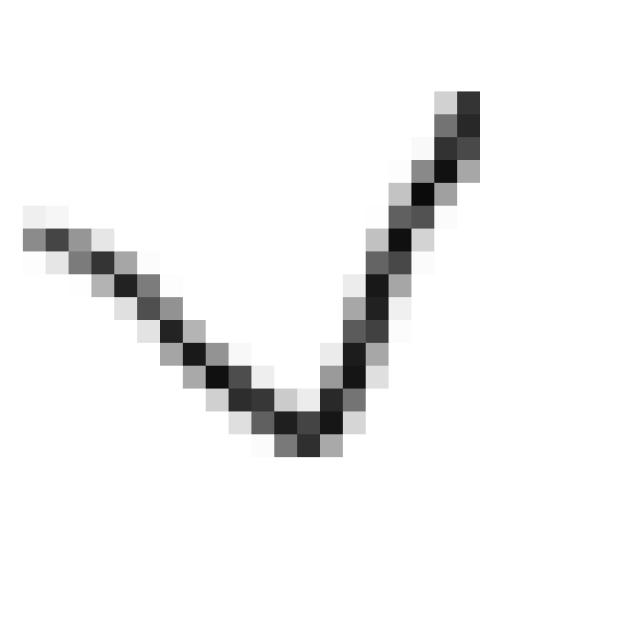7 -seven-: (13, 75, 500, 464)
